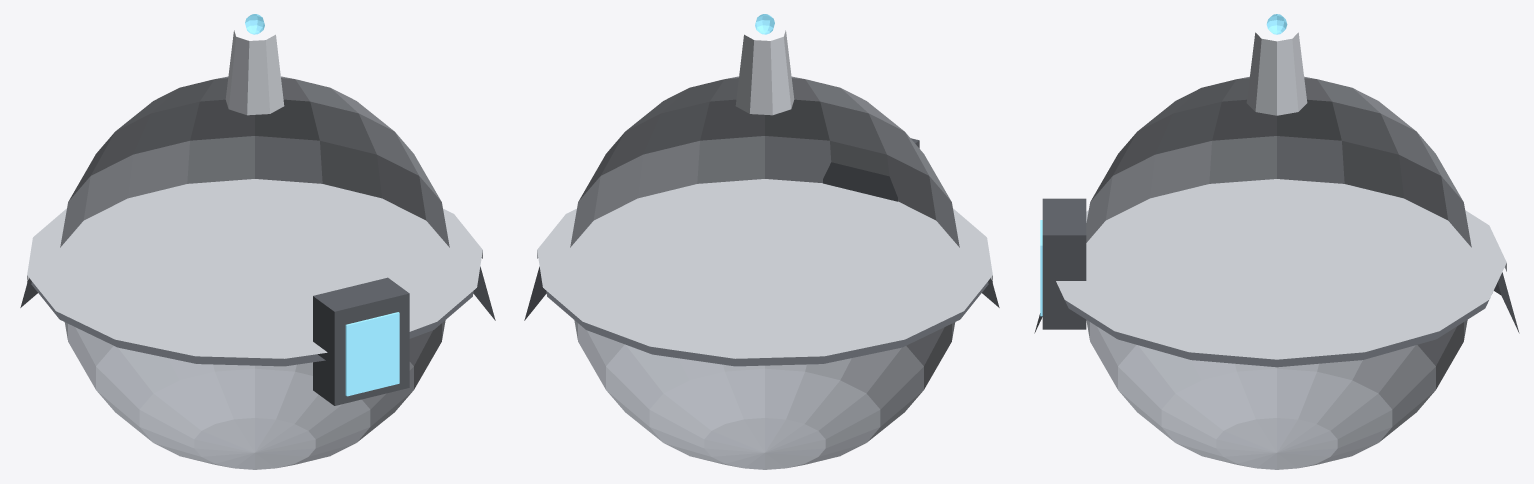
The model's file is dome.glb.
3 views of the same model, side by side, from view 1: azimuth 30°, elevation 25°; view 2: azimuth 150°, elevation 25°; view 3: azimuth 270°, elevation 25° (orthographic).
Visible parts, largest first — view 1: dome; view 2: dome; view 3: dome.
Boxes of the visible parts, bbox=[...] form: dome: bbox=[20, 14, 495, 469]; dome: bbox=[524, 14, 999, 469]; dome: bbox=[1034, 14, 1519, 469].
Size of the model in its own units: 5.6 by 5.57 by 5.6.
